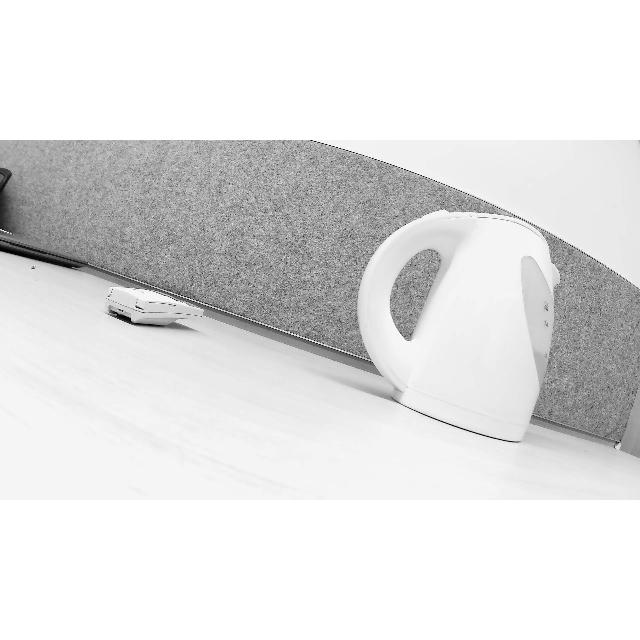targets: (357, 206, 563, 440), (102, 279, 204, 331)
